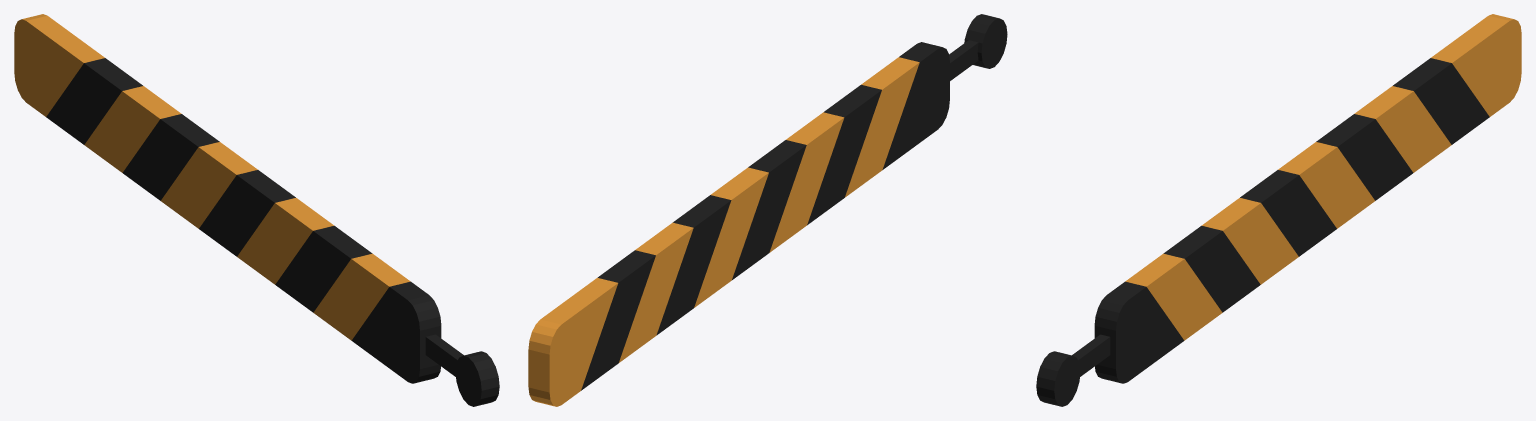
The model's file is Barrera.fbx.
3 views of the same model, side by side, from view 1: azimuth 30°, elevation 25°; view 2: azimuth 150°, elevation 25°; view 3: azimuth 330°, elevation 25° (orthographic).
Visible parts, largest first — view 1: Cylinder; view 2: Cylinder; view 3: Cylinder.
Boxes of the visible parts, <box> form: Cylinder: <box>14,14,499,406</box>; Cylinder: <box>528,14,1007,406</box>; Cylinder: <box>1036,14,1521,406</box>.
Size of the model in its own units: 7.58 by 27.68 by 286.
